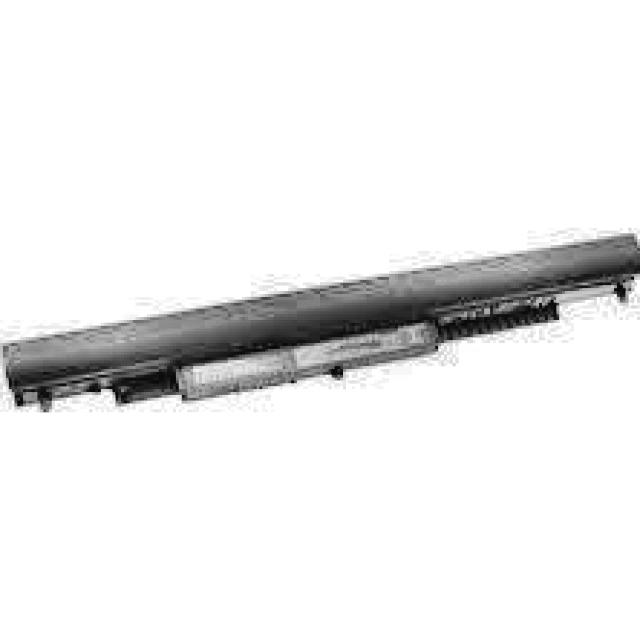Battery: (0, 222, 640, 418)
